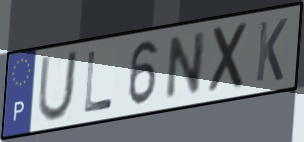6: (128, 39, 160, 108)
K: (253, 16, 289, 85)
L: (82, 49, 115, 116)
N: (162, 29, 209, 103)
U: (35, 48, 80, 123)
X: (207, 19, 252, 98)
